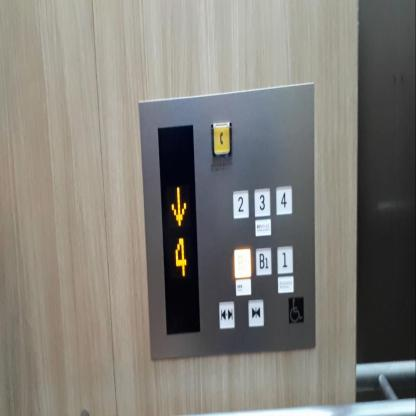1: (276, 244, 293, 274)
2: (232, 188, 249, 219)
3: (253, 186, 271, 218)
4: (274, 184, 292, 216)
B1: (254, 245, 271, 276)
B2: (233, 247, 251, 278)
CH: (287, 295, 304, 324)
call: (210, 118, 232, 158)
close: (247, 298, 264, 328)
led: (154, 121, 202, 335)
open: (218, 298, 235, 330)
